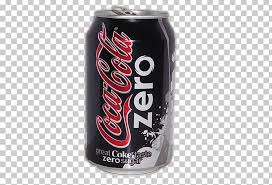can: (81, 8, 176, 176)
